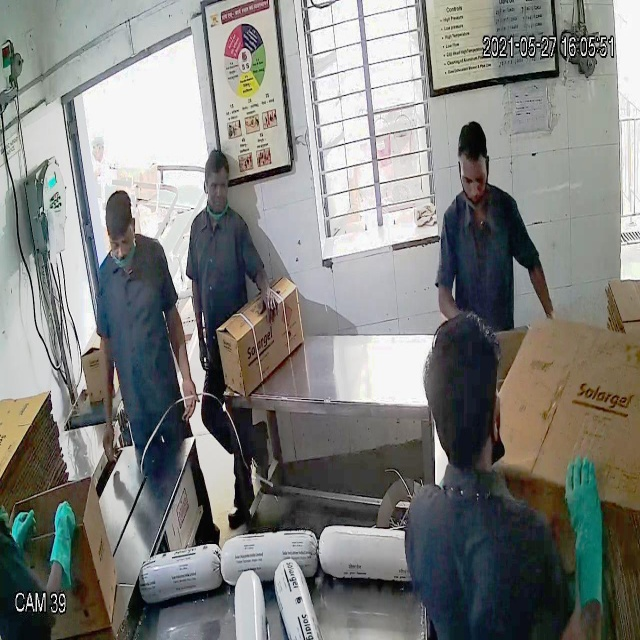Sin_gafas: (454, 163, 497, 196), (103, 222, 140, 259), (202, 172, 233, 201)
